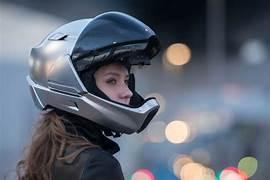Helmet: (27, 12, 158, 135)
